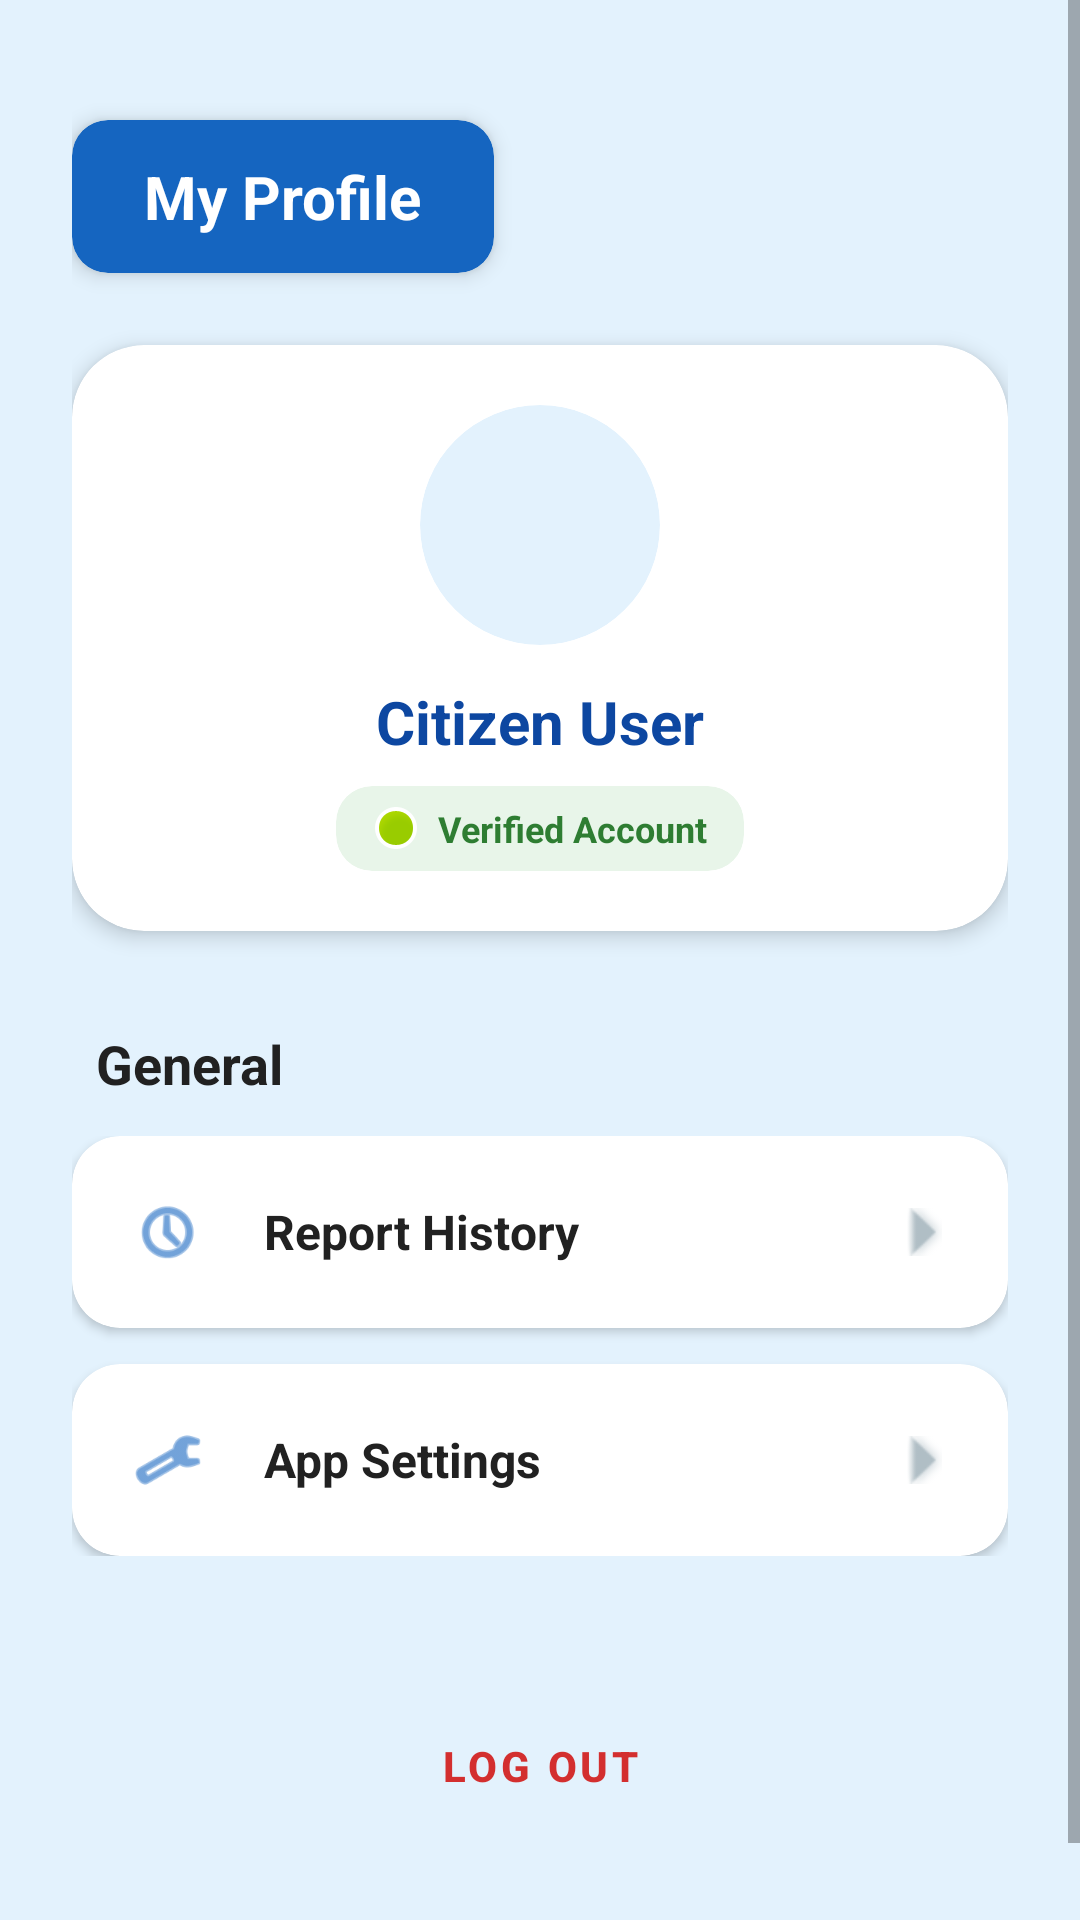

Screen size 1080x1920. Icon name, then its box in pixels as (x1, y1, x2, y2):
preferences: (135, 1435, 200, 1485)
recent history: (142, 1206, 194, 1258)
